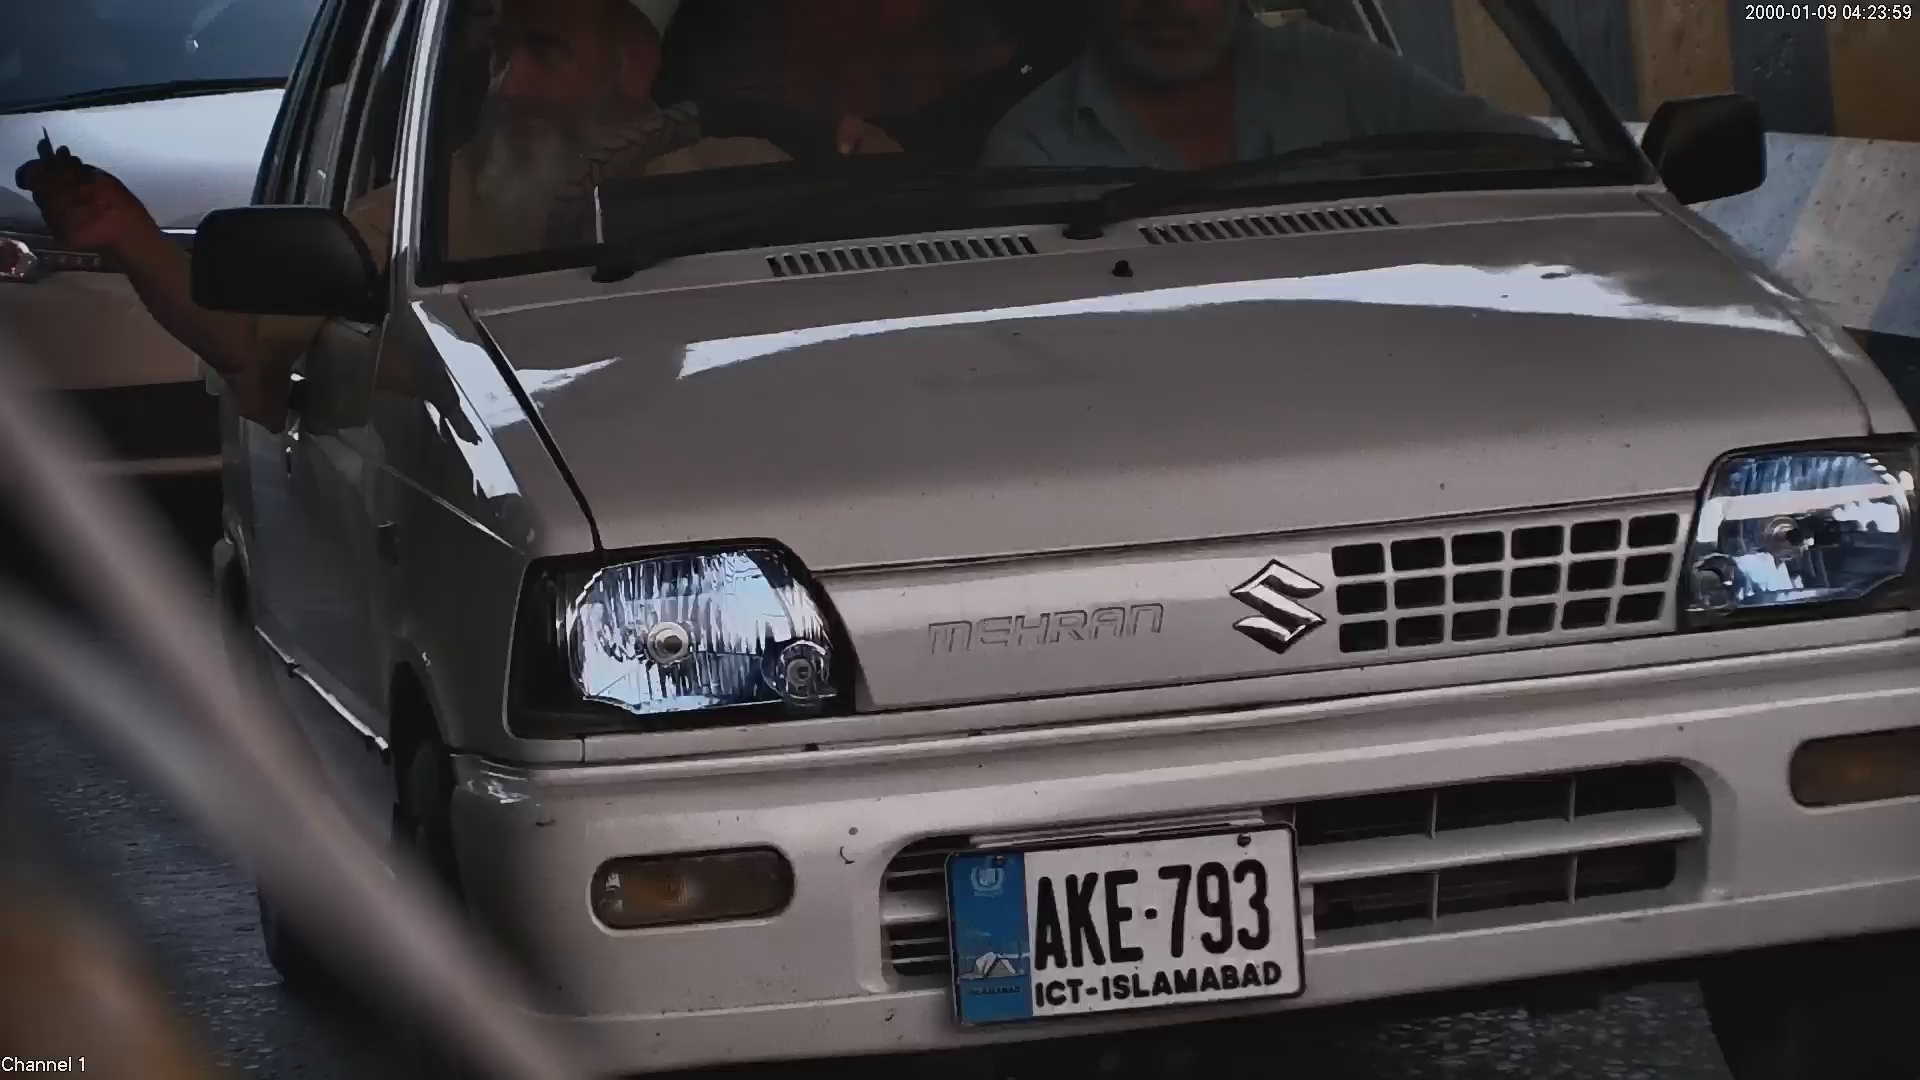Number_Plate: (917, 823, 1317, 1014)
Undefined: (528, 559, 806, 714), (1673, 438, 1910, 605), (578, 849, 804, 927), (915, 594, 1169, 651), (1776, 718, 1920, 813), (1215, 557, 1326, 651)
